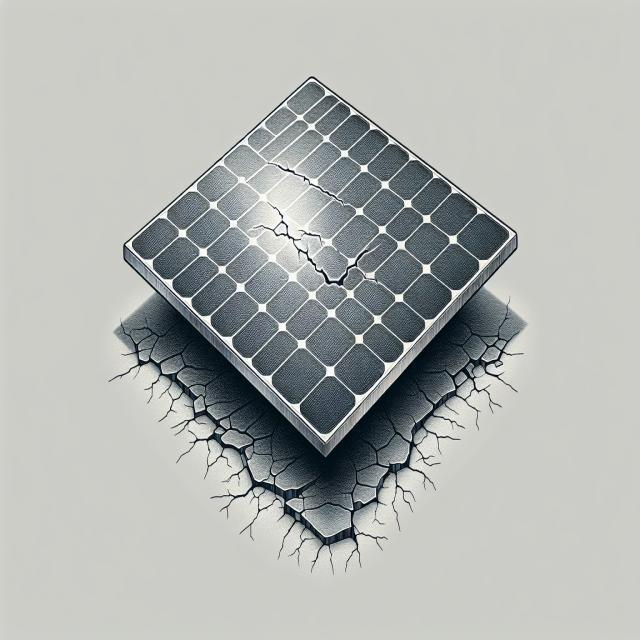Anomaly Solar Panel: (117, 43, 515, 442)
Structural Damage: (242, 198, 392, 300), (262, 151, 348, 212)
